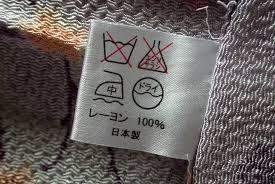DN_bleach: (140, 38, 173, 72)
DN_wash: (99, 32, 138, 66)
dry_clean: (130, 77, 165, 111)
iron: (92, 69, 126, 107)
